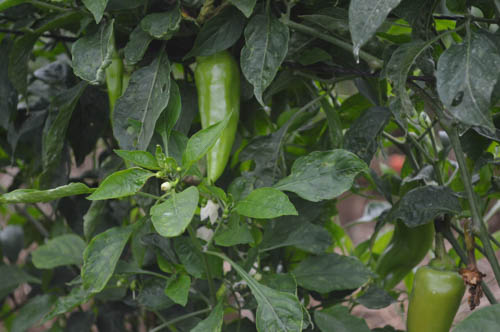ChiliPepper: (364, 186, 436, 294), (192, 55, 242, 187), (409, 270, 466, 332)
